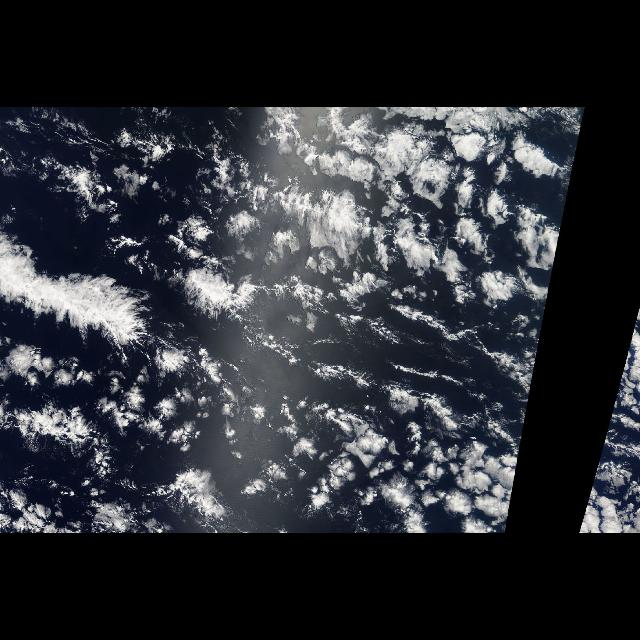Fish: (0, 217, 156, 357)
Flower: (102, 110, 538, 530)
